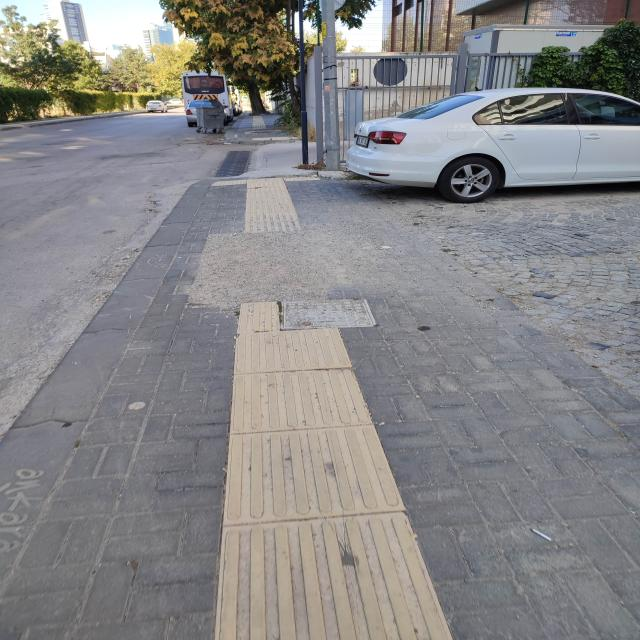sidewalk: (2, 178, 637, 640), (337, 0, 373, 28)
